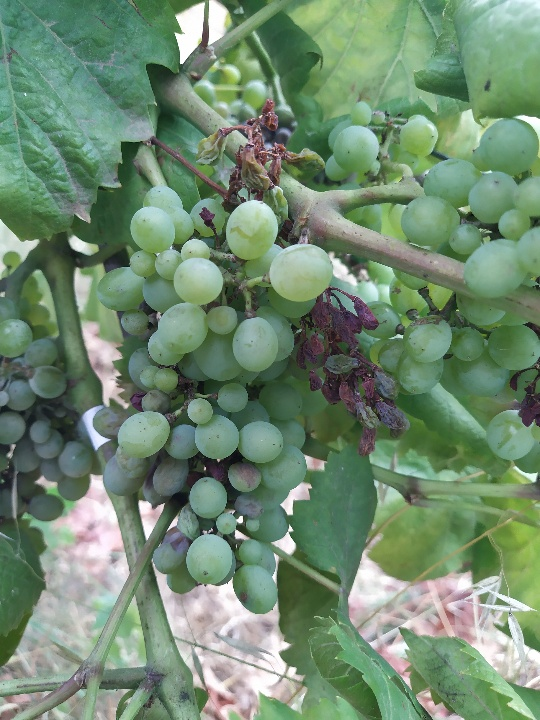grape: (87, 137, 339, 618)
